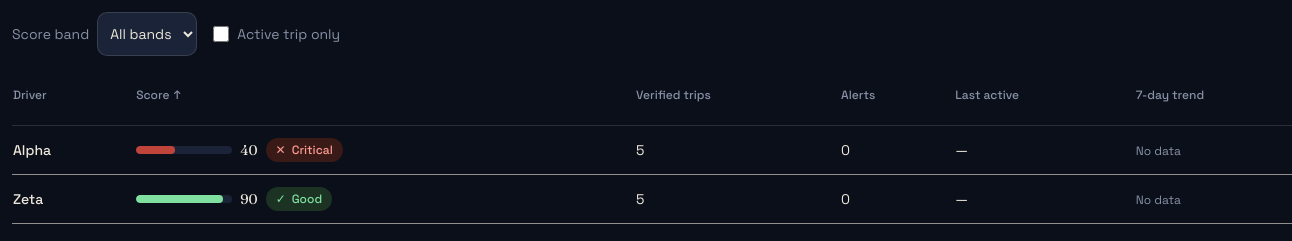
Test case: DriverListClient › filters to active-trip-only drivers
Click the checkbox labelled "Active trip only" at (221, 34), box [213,26,229,42]
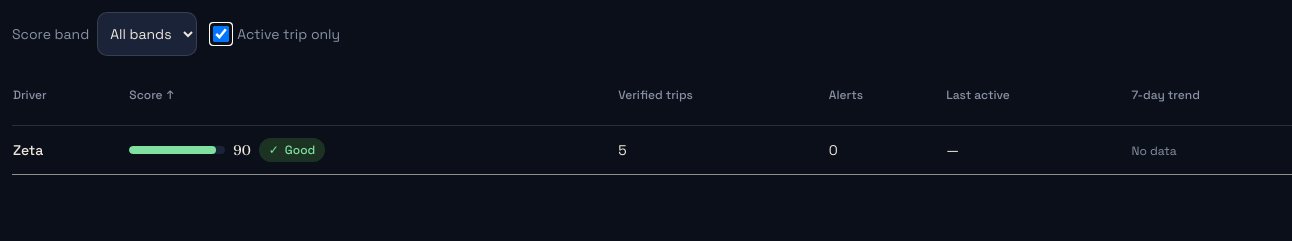
Check: the link reads "Zeta", box [13,141,43,159]
Check: the number of links is 1, box [13,141,43,159]
